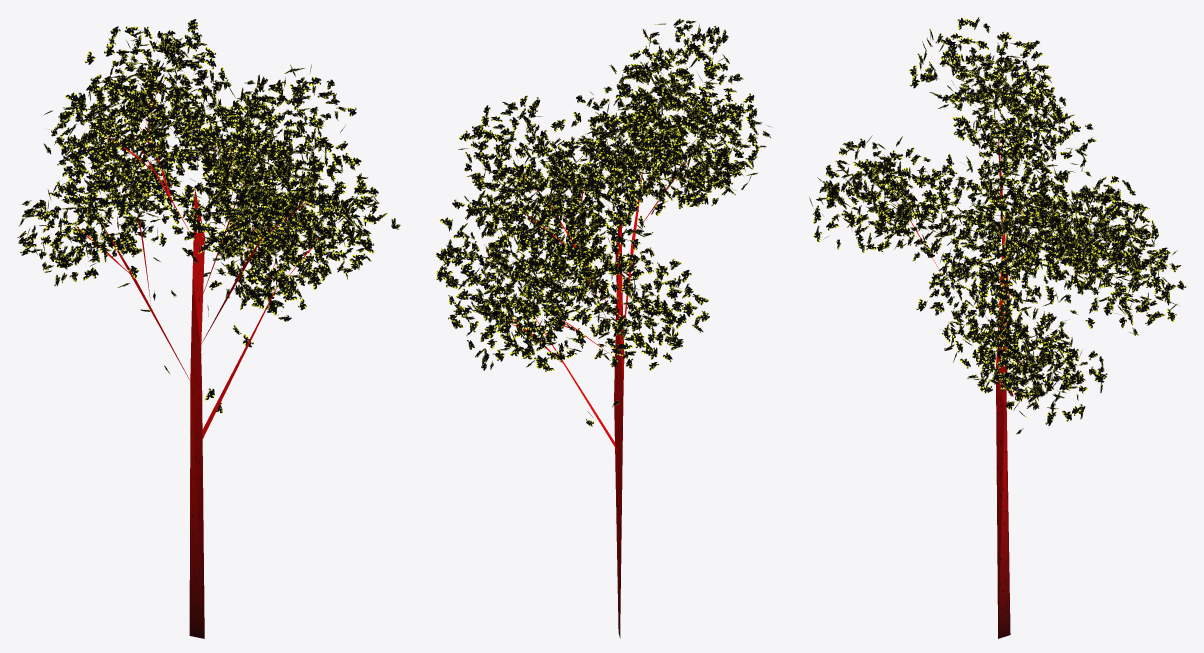
The model's file is birch_pale_v02_LOD1.glb.
The picture shows the model from 3 angles, left to right: view 1: azimuth 30°, elevation 25°; view 2: azimuth 150°, elevation 25°; view 3: azimuth 270°, elevation 25°; orthographic projection. The views are drawn at different scales.
Visible parts, largest first — view 1: birch_pale_v02_LOD1; view 2: birch_pale_v02_LOD1; view 3: birch_pale_v02_LOD1.
Part boxes in pixels (x1=…): birch_pale_v02_LOD1: x1=17, y1=19, x2=400, y2=638; birch_pale_v02_LOD1: x1=436, y1=19, x2=771, y2=638; birch_pale_v02_LOD1: x1=809, y1=17, x2=1186, y2=638.
Bounding box in the file's own units: 10.09 × 18.45 × 10.79.
Materials: 2 (2 with a texture image).
